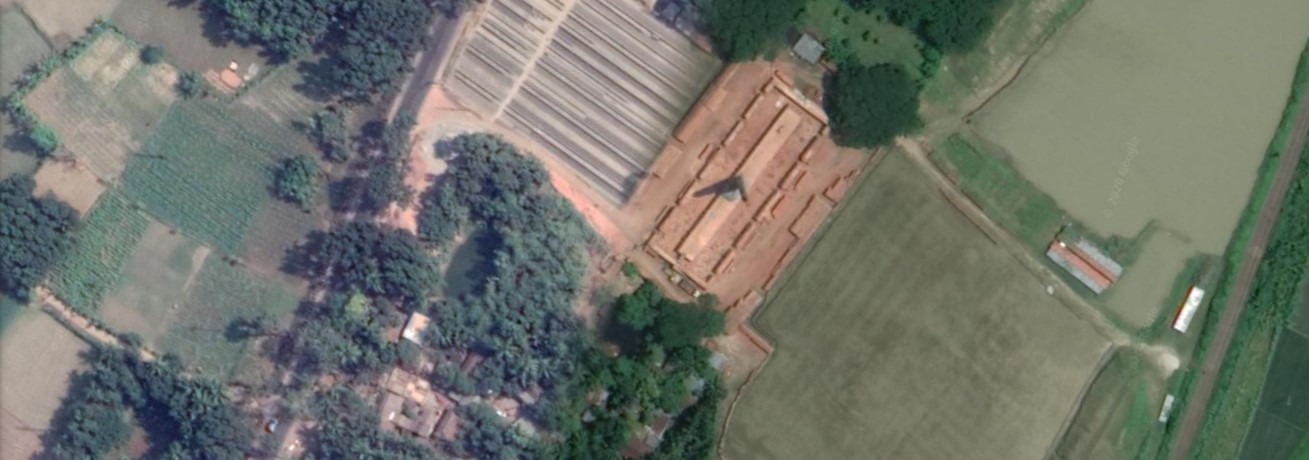kiln: (660, 127, 835, 256)
